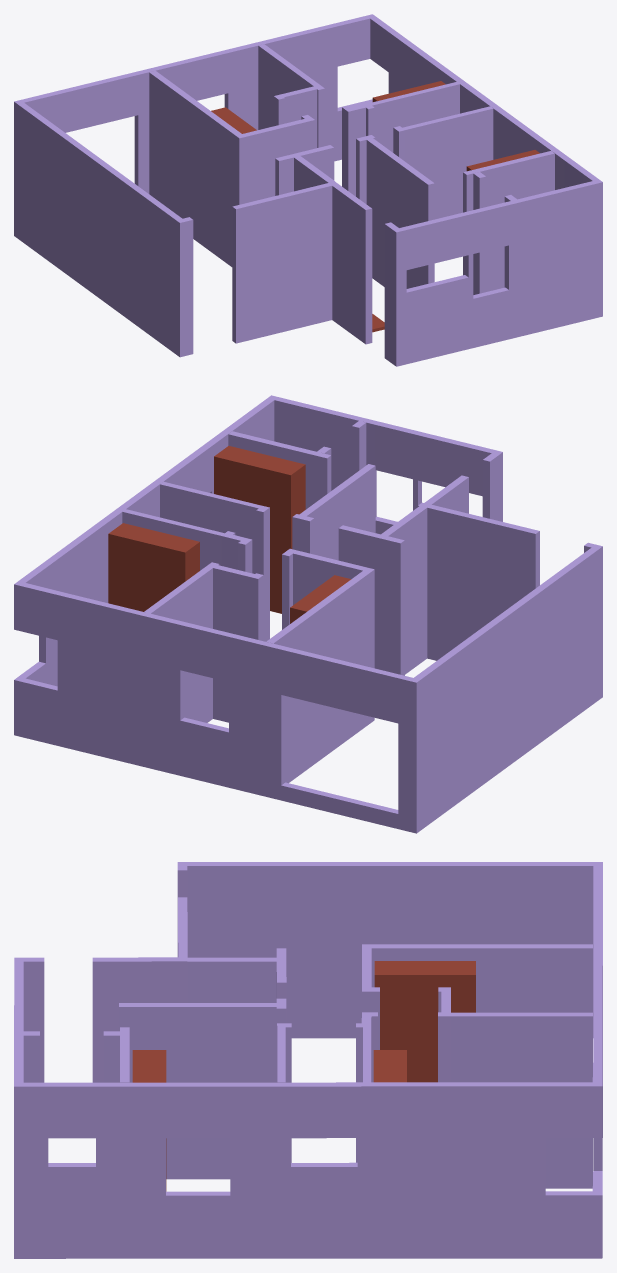
The model's file is apt3d.glb.
3 views of the same model, one above another, from view 1: azimuth 30°, elevation 25°; view 2: azimuth 150°, elevation 25°; view 3: azimuth 270°, elevation 25° (orthographic). The views are drawn at different scales.
Parts seen in each view (by area): view 1: Line001, Box010; view 2: Line001, Box015, Box011, Box010; view 3: Line001, Box010, Box015, Box011.
Part boxes in pixels (x1=…): Line001: x1=14, y1=14, x2=602, y2=366; Box010: x1=211, y1=107, x2=256, y2=133; Line001: x1=14, y1=395, x2=602, y2=833; Box015: x1=214, y1=446, x2=305, y2=613; Box011: x1=108, y1=523, x2=199, y2=611; Box010: x1=290, y1=575, x2=351, y2=623; Line001: x1=14, y1=862, x2=602, y2=1258; Box010: x1=374, y1=961, x2=475, y2=1082; Box015: x1=132, y1=1050, x2=166, y2=1191; Box011: x1=373, y1=1050, x2=406, y2=1082.
Bounding box in the file's own units: 8.39 × 3 × 9.3.
